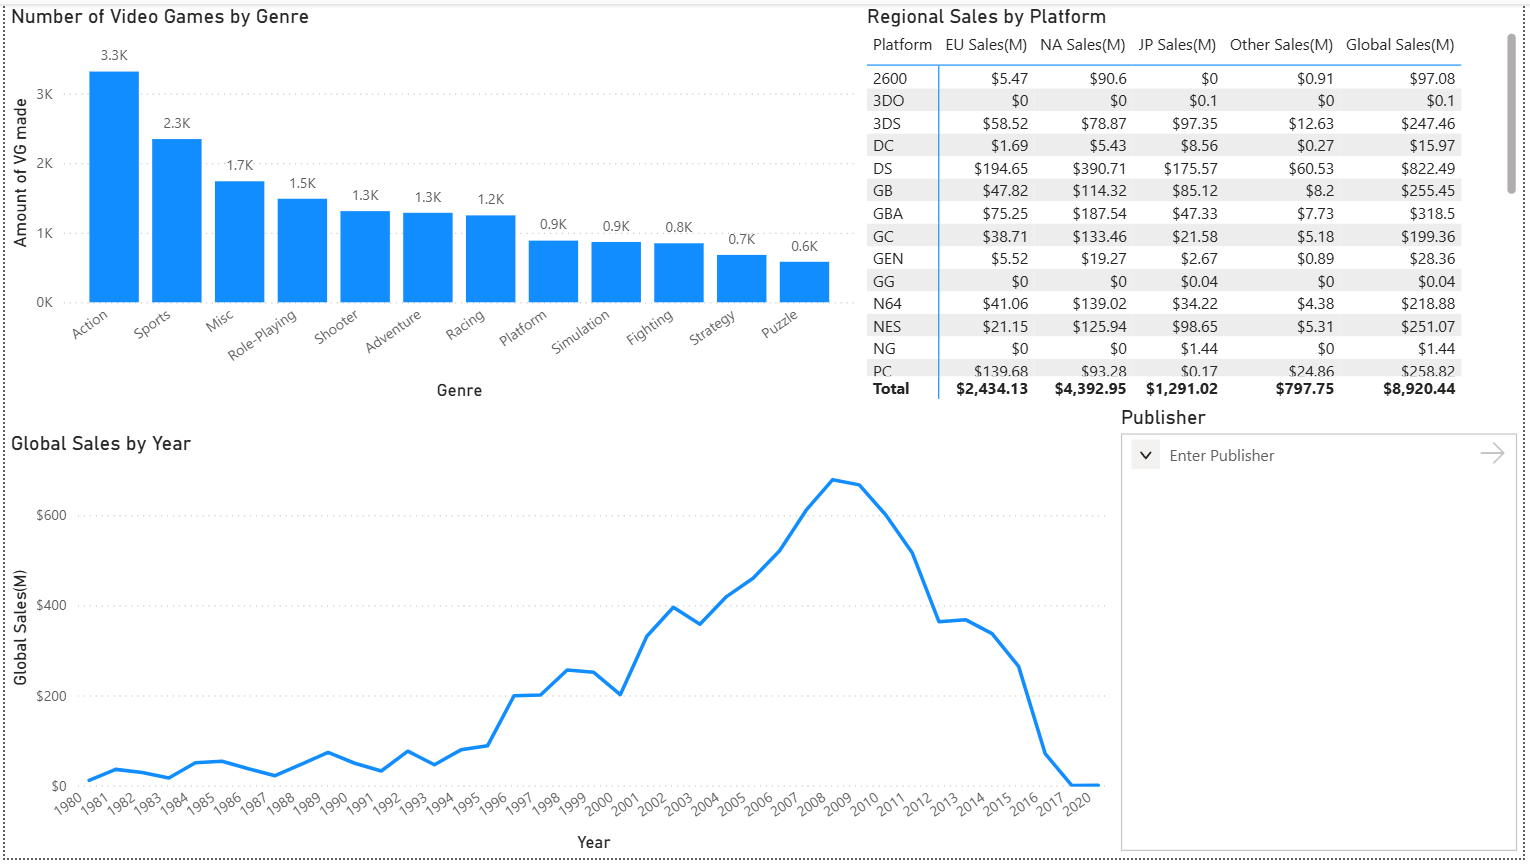

What the dashboard file says about the page in this screenshot:
{"tool":"powerbi","page":{"name":"Detailed Global Sales by Genre","canvas":[1280,720],"ordinal":4},"visuals":[{"type":"columnChart","title":"Number of Video Games by Genre","fields":{"Category":["vgsales.Genre"],"Y":["CountNonNull(vgsales.Genre)"]},"box":[0,0,721.7,338.5],"z":0},{"type":"lineChart","title":"Global Sales by Year","fields":{"Category":["vgsales.Year"],"Y":["Sum(vgsales.Global_Sales)"]},"box":[0,359.9,935.7,359.9],"z":1000},{"type":"pivotTable","title":"Regional Sales by Platform","fields":{"Rows":["vgsales.Platform"],"Values":["Sum(vgsales.EU_Sales)","Sum(vgsales.NA_Sales)","Sum(vgsales.JP_Sales)","Sum(vgsales.Other_Sales)","Sum(vgsales.Global_Sales)"]},"box":[721.7,0,558.3,338.5],"z":2000},{"type":"textSlicer","fields":{"Values":["vgsales.Publisher"]},"box":[935.7,338.5,344.3,381.3],"z":3000}]}

Visuals, with their boxes in screenshot pixels (x1, y1, x2, y2), scaled from the page's 1280x720 canvas onto the 1530x865 screenshot:
"Number of Video Games by Genre" columnChart: <region>0, 0, 863, 407</region>
"Global Sales by Year" lineChart: <region>0, 432, 1118, 864</region>
"Regional Sales by Platform" pivotTable: <region>863, 0, 1529, 407</region>
textSlicer - vgsales.Publisher: <region>1118, 407, 1529, 864</region>
